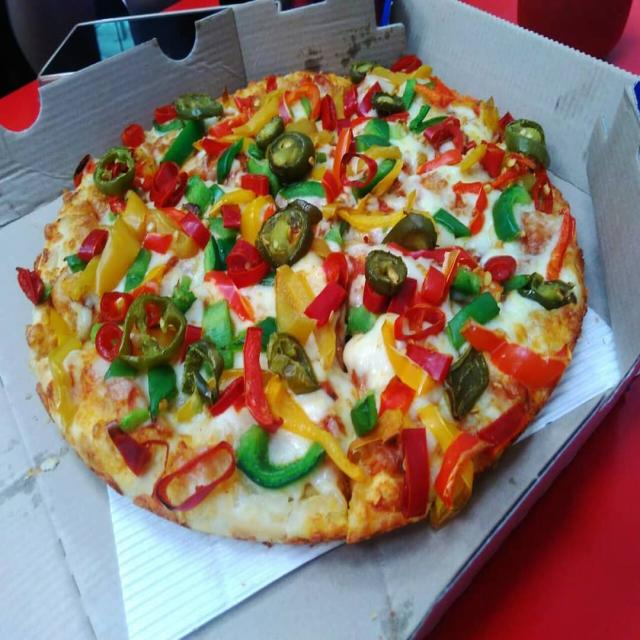peppers: (108, 280, 228, 391), (461, 316, 558, 396), (382, 316, 446, 412), (153, 437, 236, 510), (466, 138, 550, 208), (238, 421, 325, 487), (344, 80, 420, 150), (152, 163, 204, 256), (66, 221, 136, 290), (163, 117, 247, 171), (213, 88, 286, 150), (411, 100, 470, 171), (242, 324, 280, 434), (418, 243, 477, 299), (398, 415, 428, 508), (448, 292, 498, 340), (294, 79, 337, 133), (491, 177, 528, 238)
pizza: (16, 55, 588, 549)
